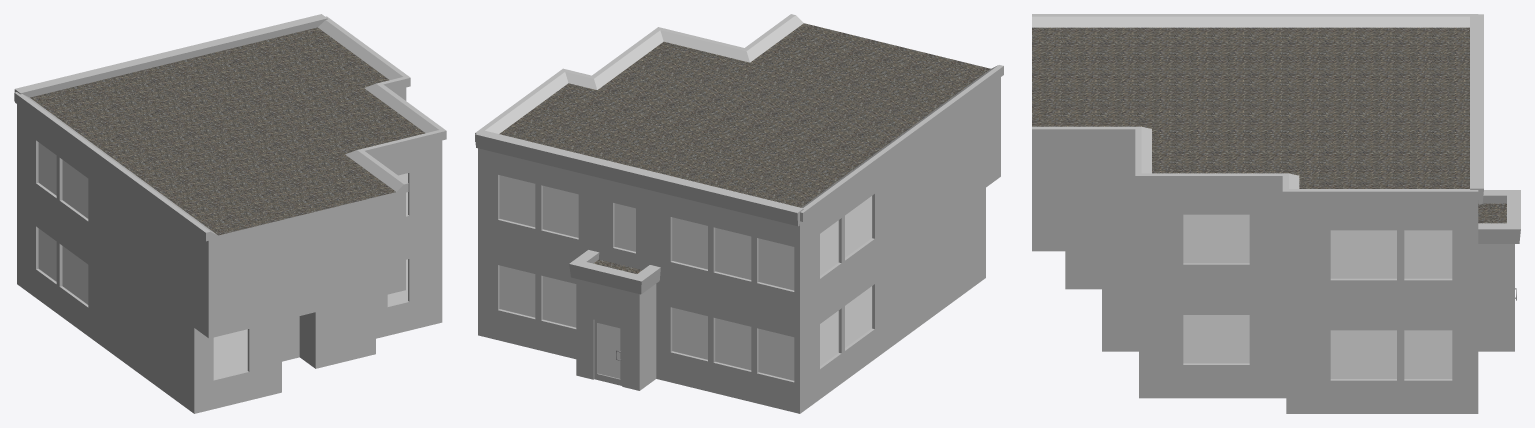
Rendered from NewBuilding9.fbx.
The picture shows the model from 3 angles, left to right: view 1: azimuth 30°, elevation 25°; view 2: azimuth 150°, elevation 25°; view 3: azimuth 270°, elevation 25°; orthographic projection. The views are drawn at different scales.
Visible parts, largest first — view 1: Outside Walls, Roof, Roof Lips (Floor 2), Roof Top Walls (Floor 2), BuildingFiller (×3), FullWindowMesh (×5); view 2: Outside Walls, Roof, BuildingFiller (×6), FullWindowMesh (×15), Roof Lips (Floor 2), Roof Top Walls (Floor 2), Roof Lips (Floor 1), commercial_door, Roof Top Walls (Floor 1); view 3: Outside Walls, Roof, BuildingFiller (×4), FullWindowMesh (×6), Roof Lips (Floor 2), Roof Top Walls (Floor 2), Roof Lips (Floor 1).
Boxes of the visible parts, x1,y1,x2,y2 form: Outside Walls: (17,97,442,413); Roof: (30,27,425,235); Roof Lips (Floor 2): (14,14,446,241); Roof Top Walls (Floor 2): (17,87,442,252); BuildingFiller (×3): (38,142,247,378); FullWindowMesh (×5): (38,143,247,378); Outside Walls: (478,86,1000,413); Roof: (499,23,990,273); BuildingFiller (×6): (499,175,871,380); FullWindowMesh (×15): (499,175,872,380); Roof Lips (Floor 2): (475,14,1003,226); Roof Top Walls (Floor 2): (478,77,1000,233); Roof Lips (Floor 1): (569,250,660,294); commercial_door: (594,320,622,385); Roof Top Walls (Floor 1): (576,279,656,300); Outside Walls: (1032,151,1514,413); Roof: (1032,27,1506,223); BuildingFiller (×4): (1183,214,1452,378); FullWindowMesh (×6): (1183,215,1451,378); Roof Lips (Floor 2): (1032,14,1483,204); Roof Top Walls (Floor 2): (1032,139,1478,213); Roof Lips (Floor 1): (1478,190,1520,243).
Bounding box in the file's own units: 11.4 × 6.74 × 13.26.
